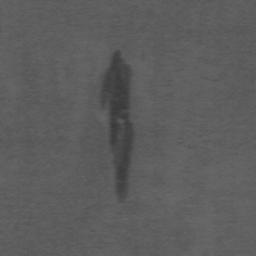Iron scale compression: (100, 50, 135, 201)
